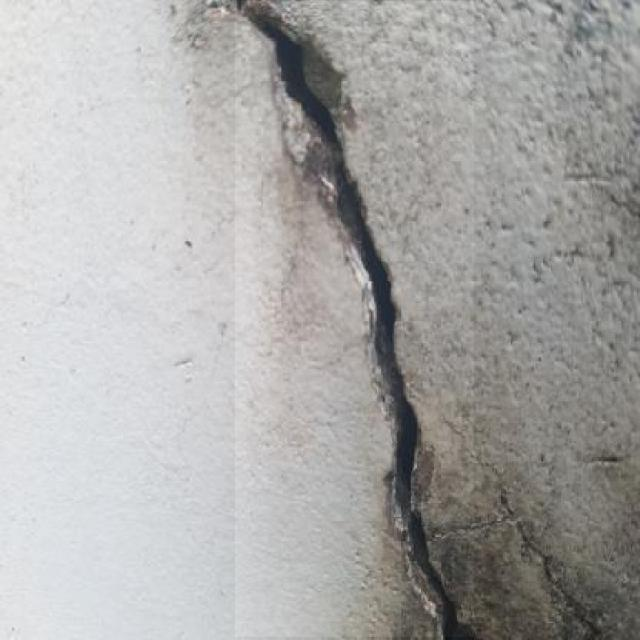diagonal crack: (236, 1, 474, 637), (497, 489, 602, 640)
